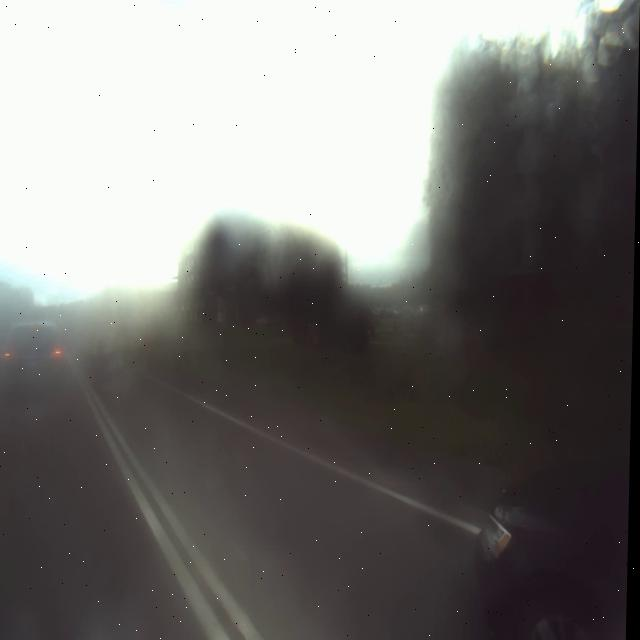car: (0, 304, 83, 394)
